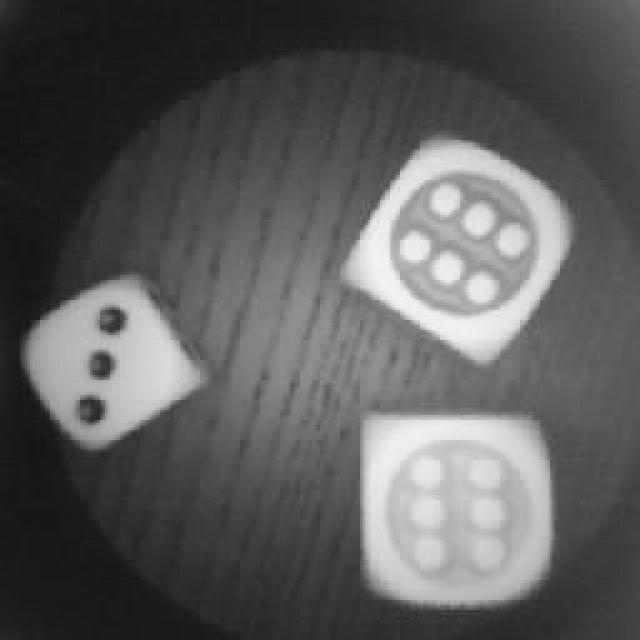dice_3: (25, 277, 207, 455)
dice_6: (347, 130, 575, 365), (347, 398, 565, 608)
